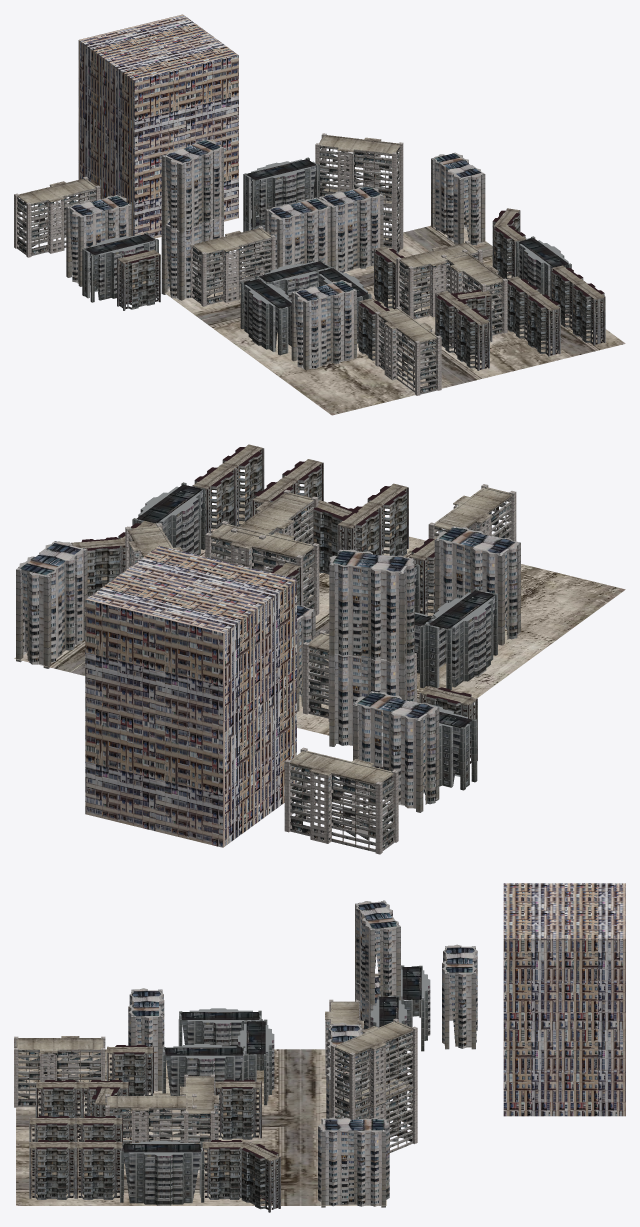
File: street_city_lite.glb
The picture shows the model from 3 angles, top to bottom: view 1: azimuth 30°, elevation 25°; view 2: azimuth 150°, elevation 25°; view 3: azimuth 270°, elevation 25°; orthographic projection. The views are drawn at different scales.
Visible parts, largest first — view 1: Plane.015, Plane.002, Plane.008, Plane.014, Cube.001, Cube.019, Cube.002, Plane.012, Plane.004, Cube.004, Plane.003, Plane.011 (+21 smaller); view 2: Plane.015, Plane.002, Cube.004, Plane.014, Plane, Plane.012, Plane.008, Plane.007, Plane.013, Cube.011, Plane.006, Cube.002 (+16 smaller); view 3: Plane.015, Plane.002, Plane.012, Cube.019, Plane.006, Cube.002, Plane.014, Plane, Cube.012, Plane.005, Cube.010, Cube.018 (+20 smaller).
Boxes of the visible parts, bbox=[...] form: Plane.015: bbox=[78, 14, 238, 238]; Plane.002: bbox=[165, 225, 625, 415]; Plane.008: bbox=[291, 280, 356, 370]; Plane.014: bbox=[161, 139, 223, 234]; Cube.001: bbox=[190, 226, 275, 306]; Cube.019: bbox=[315, 133, 403, 207]; Cube.002: bbox=[375, 306, 441, 395]; Plane.012: bbox=[431, 152, 485, 245]; Plane.004: bbox=[318, 185, 383, 272]; Cube.004: bbox=[14, 176, 100, 257]; Plane.003: bbox=[265, 197, 330, 272]; Plane.011: bbox=[243, 157, 319, 227]; Plane.015: bbox=[85, 545, 296, 847]; Plane.002: bbox=[14, 495, 625, 735]; Cube.004: bbox=[284, 747, 398, 854]; Plane.014: bbox=[329, 549, 414, 664]; Plane: bbox=[353, 691, 439, 812]; Plane.012: bbox=[16, 541, 87, 668]; Plane.008: bbox=[434, 526, 520, 645]; Plane.007: bbox=[424, 588, 497, 690]; Plane.013: bbox=[329, 649, 414, 746]; Cube.011: bbox=[205, 521, 319, 615]; Plane.006: bbox=[132, 482, 205, 555]; Cube.002: bbox=[428, 484, 516, 594]; Plane.015: bbox=[503, 883, 625, 1116]; Plane.002: bbox=[16, 1049, 386, 1205]; Plane.012: bbox=[318, 1117, 389, 1207]; Cube.019: bbox=[330, 1018, 417, 1112]; Plane.006: bbox=[120, 1140, 204, 1205]; Cube.002: bbox=[14, 1036, 105, 1107]; Plane.014: bbox=[355, 900, 400, 1005]; Plane: bbox=[442, 944, 477, 1049]; Cube.012: bbox=[105, 1093, 196, 1163]; Plane.005: bbox=[162, 1044, 246, 1107]; Cube.010: bbox=[29, 1140, 76, 1199]; Cube.018: bbox=[330, 1078, 417, 1152].
Size of the model in its own units: 18.08 by 7.78 by 23.71.
Materials: 9 (9 with a texture image).
